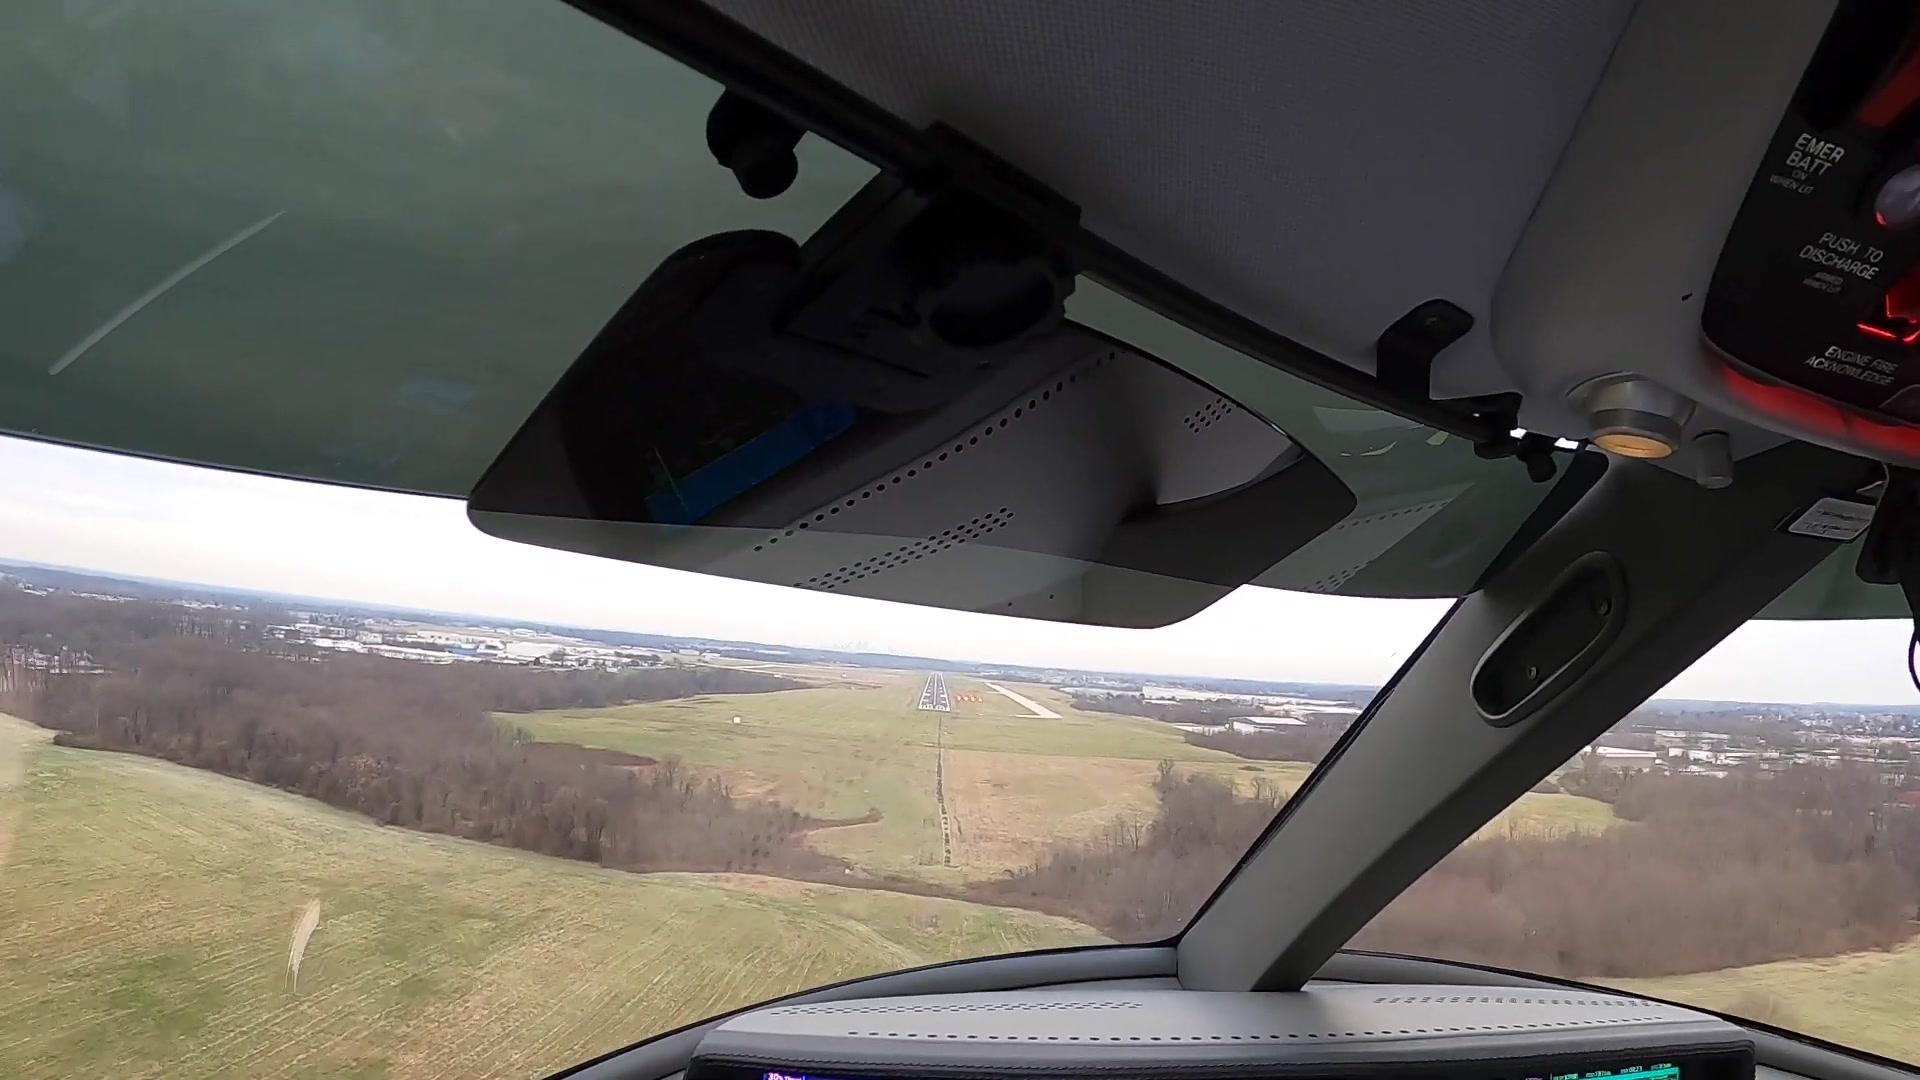runway: (915, 671, 955, 713)
